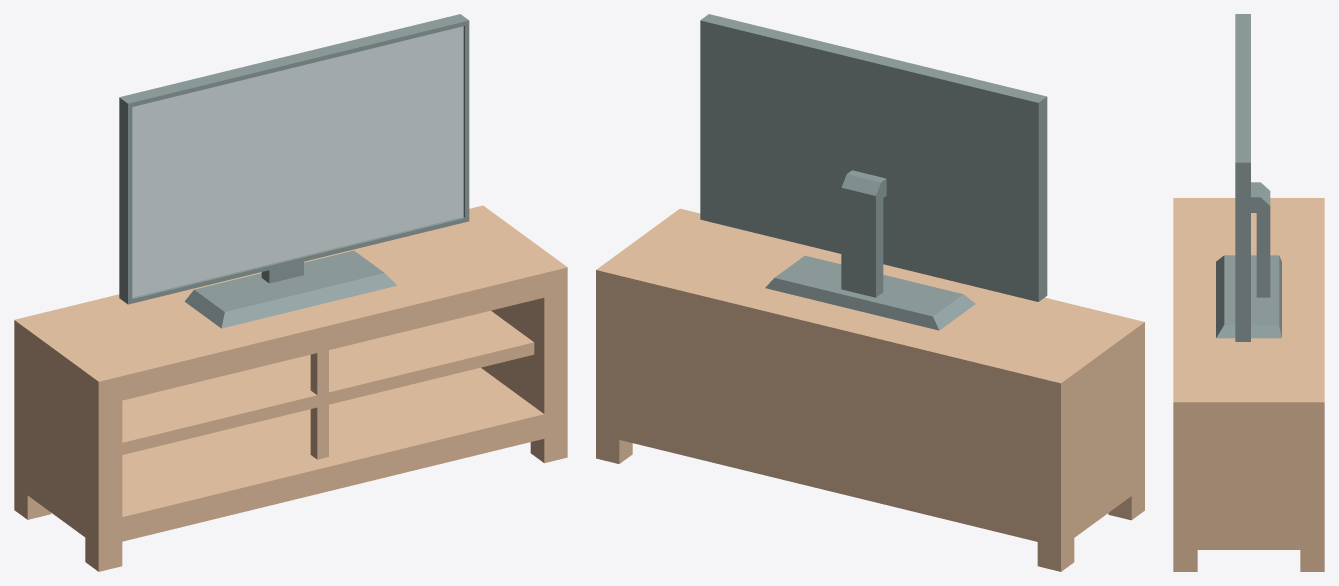
Rendered from camp-television-v1.glb.
The picture shows the model from 3 angles, left to right: view 1: azimuth 30°, elevation 25°; view 2: azimuth 150°, elevation 25°; view 3: azimuth 270°, elevation 25°; orthographic projection. The views are drawn at different scales.
Visible parts, largest first — view 1: camp_television_v1_0, camp_television_v1_1; view 2: camp_television_v1_0, camp_television_v1_1; view 3: camp_television_v1_0, camp_television_v1_1.
Part boxes in pixels (x1=…): camp_television_v1_0: x1=14, y1=205, x2=567, y2=571; camp_television_v1_1: x1=119, y1=14, x2=469, y2=328; camp_television_v1_0: x1=596, y1=208, x2=1144, y2=571; camp_television_v1_1: x1=700, y1=14, x2=1047, y2=330; camp_television_v1_0: x1=1173, y1=198, x2=1324, y2=571; camp_television_v1_1: x1=1216, y1=14, x2=1281, y2=341.
Bounding box in the file's own units: 1.6 × 1.39 × 0.5.
